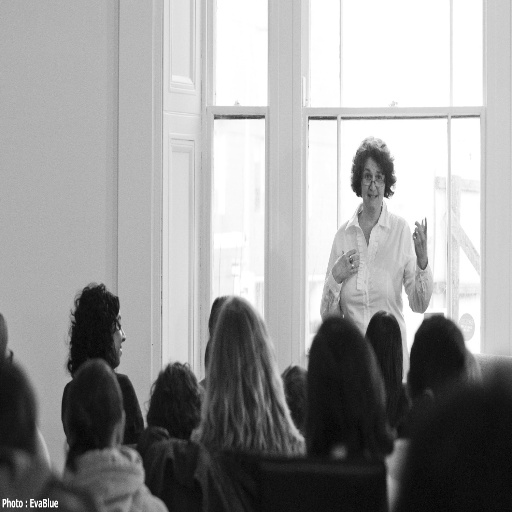hand: (410, 216, 435, 305), (334, 247, 360, 285)
